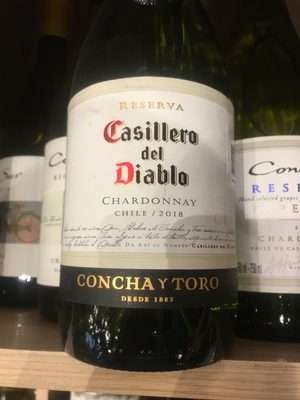casillero del diablo chardonnay: (65, 35, 231, 368)
